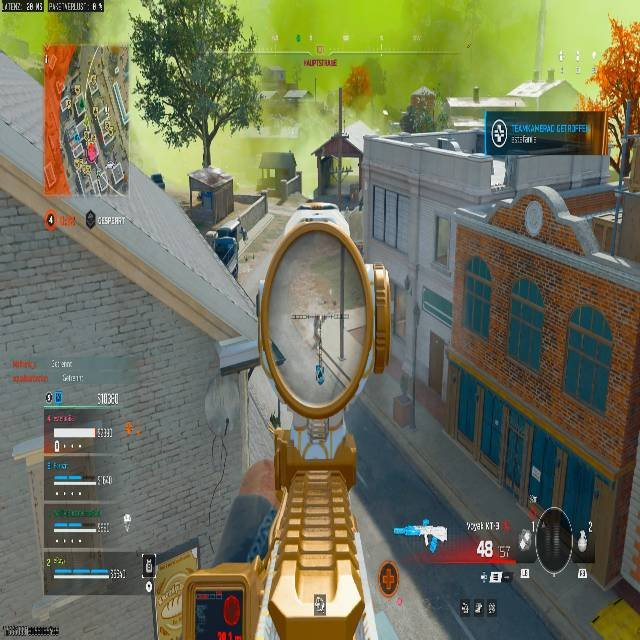player: (184, 166, 260, 276), (395, 86, 445, 133), (341, 193, 351, 212)
